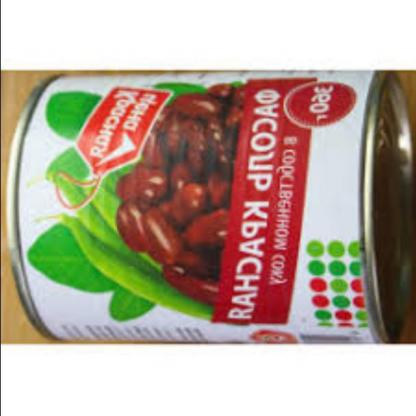fasol: (104, 89, 227, 279)
